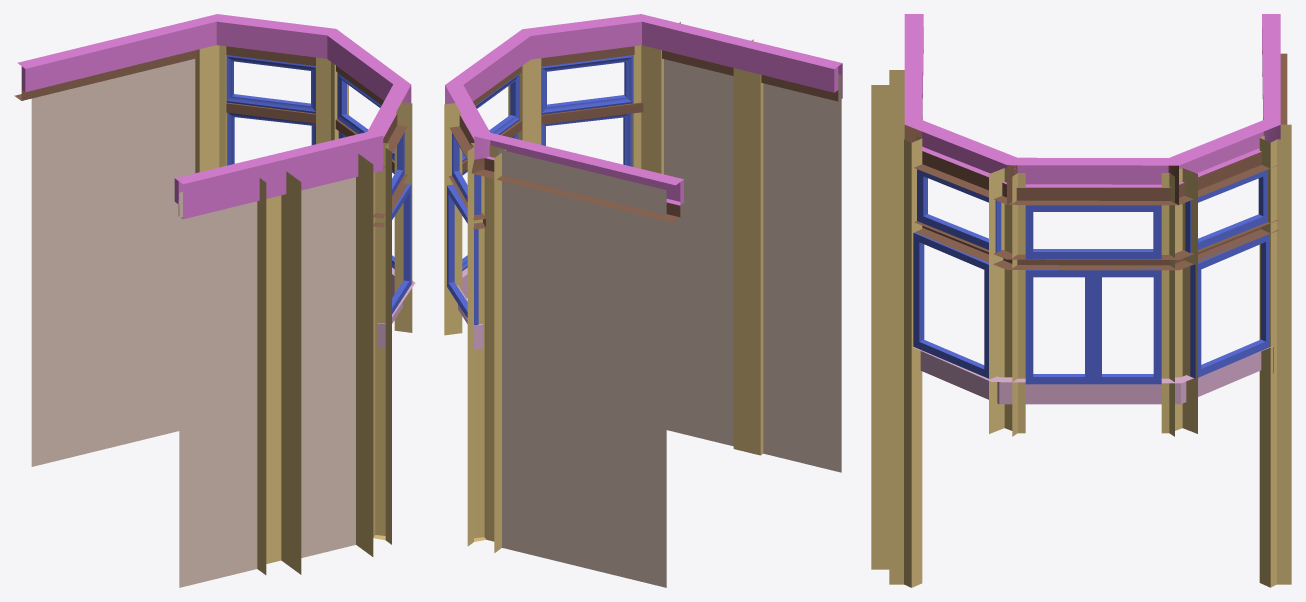
The model's file is KitchenWalls.fbx.
3 renders of one model, left to right at view 1: azimuth 30°, elevation 25°; view 2: azimuth 150°, elevation 25°; view 3: azimuth 270°, elevation 25°, orthographic. The views are drawn at different scales.
Visible parts, largest first — view 1: Kitchen_Walls; view 2: Kitchen_Walls; view 3: Kitchen_Walls.
Boxes of the visible parts, box(x1,y1,x2,y2) form: Kitchen_Walls: box(14, 14, 415, 587); Kitchen_Walls: box(444, 14, 842, 587); Kitchen_Walls: box(871, 14, 1291, 587).
Size of the model in its own units: 245 by 338 by 280.
